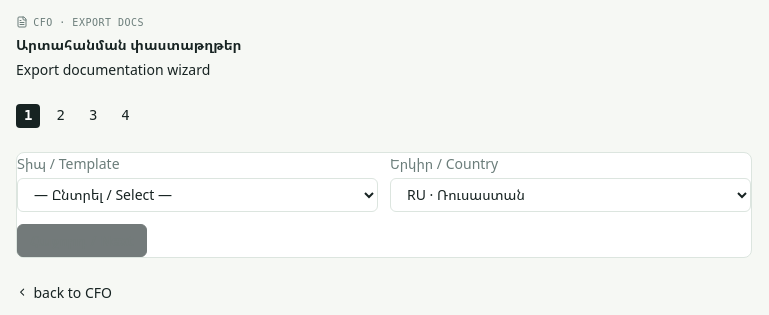
Test case: ExportDocs — step indicator + step 1 › disables the Next button until a template is chosen
Check: the button with test id "export-docs-next-button" is disabled, box [17,224,146,257]
Select "Արտահանման հաշիվ / Export invoice" in the dropdown with test id "export-docs-template-select" at [198, 195], box [17,178,378,212]
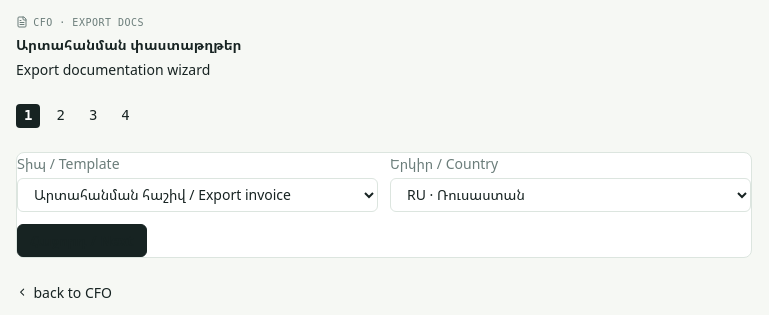
Check: the button with test id "export-docs-next-button" is enabled, box [17,224,146,257]
